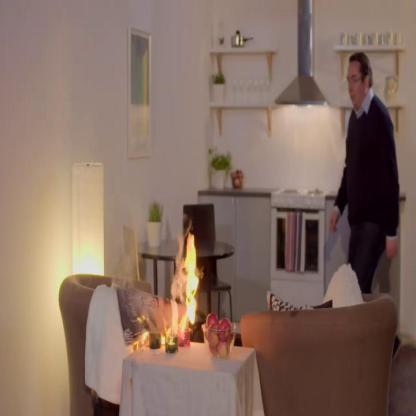fire: (178, 231, 203, 329)
